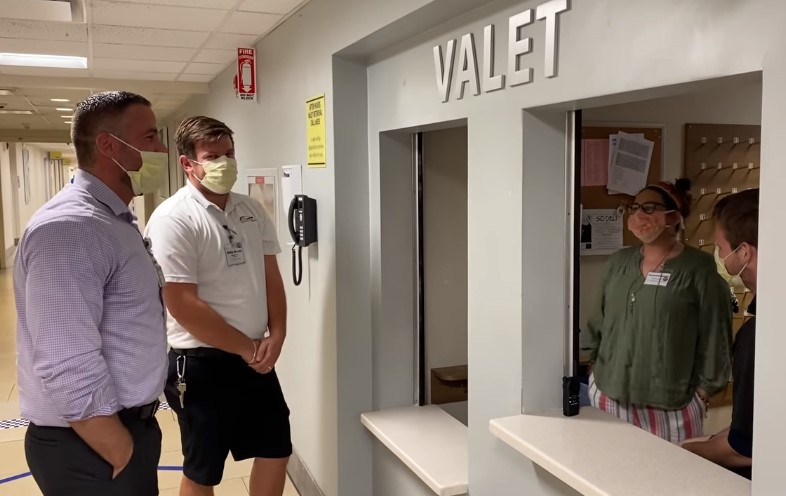face_with_mask: (77, 93, 166, 195), (706, 192, 755, 296), (180, 118, 237, 194), (627, 187, 680, 244)
